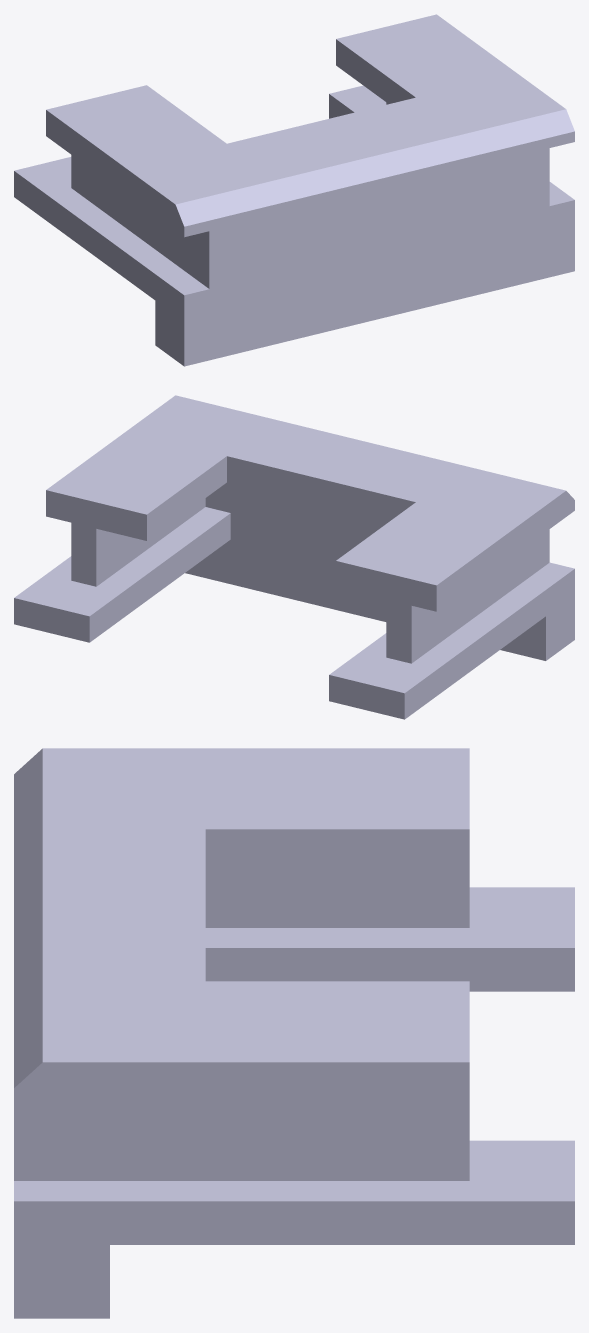
File: Gripper02.dae
The picture shows the model from 3 angles, top to bottom: view 1: azimuth 30°, elevation 25°; view 2: azimuth 150°, elevation 25°; view 3: azimuth 270°, elevation 25°; orthographic projection. The views are drawn at different scales.
Visible parts, largest first — view 1: node0; view 2: node0; view 3: node0.
Boxes of the visible parts, x1,y1,x2,y2 form: node0: (14, 14, 574, 366); node0: (14, 395, 574, 719); node0: (14, 748, 574, 1318).
Bounding box in the file's own units: 0.155 × 0.117 × 0.059.
